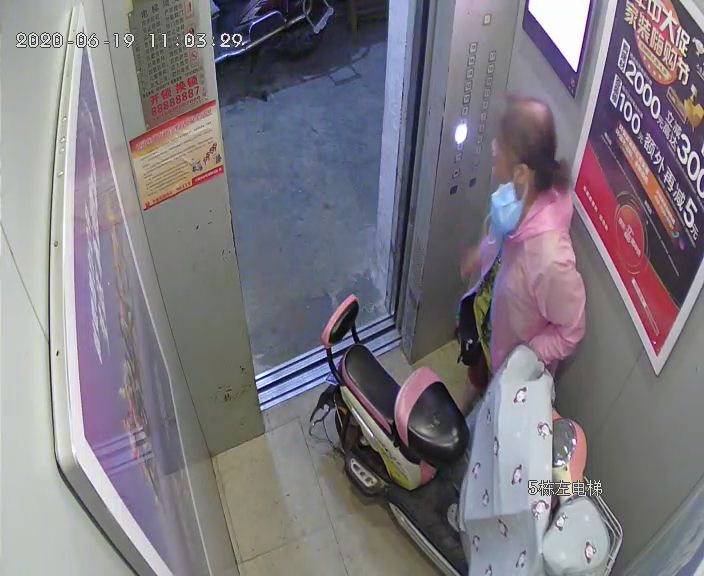Electric-bicycle: (327, 292, 616, 567)
